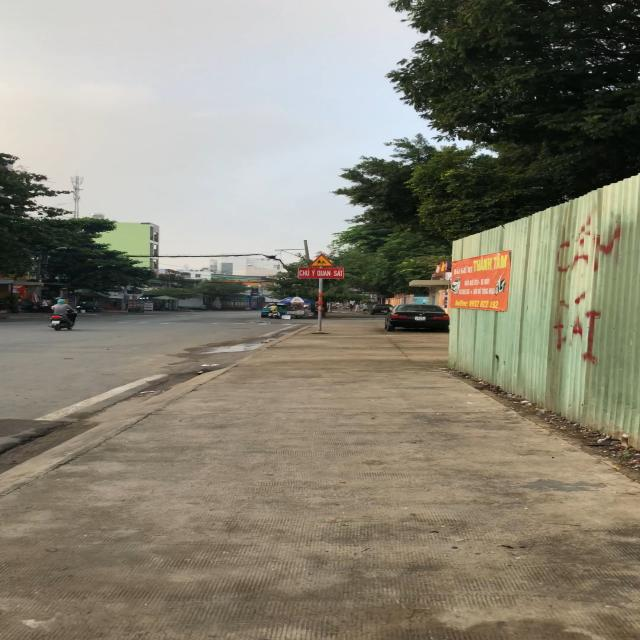Bien bao tre em: (308, 252, 335, 267)
